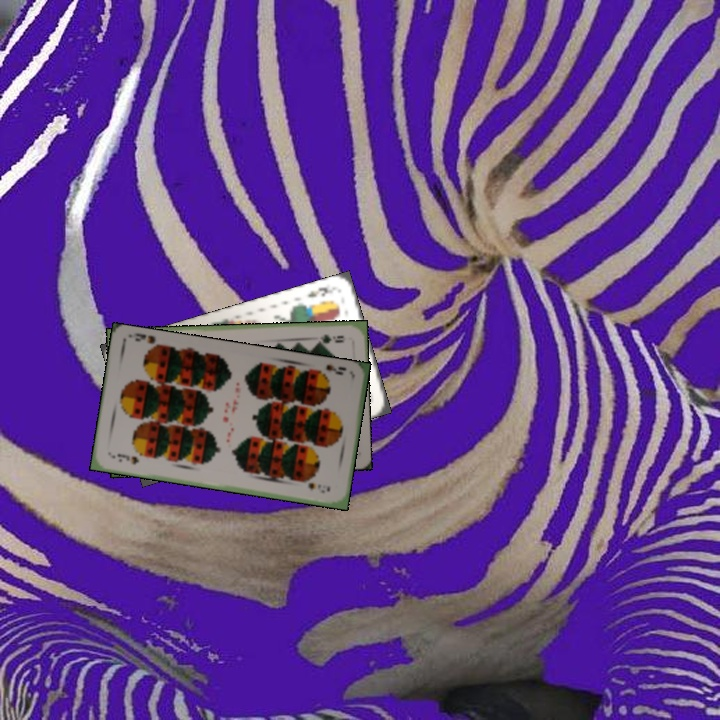EK: (303, 282, 331, 300)
G9: (311, 330, 347, 345)
S9: (311, 360, 349, 380), (107, 449, 141, 467)
